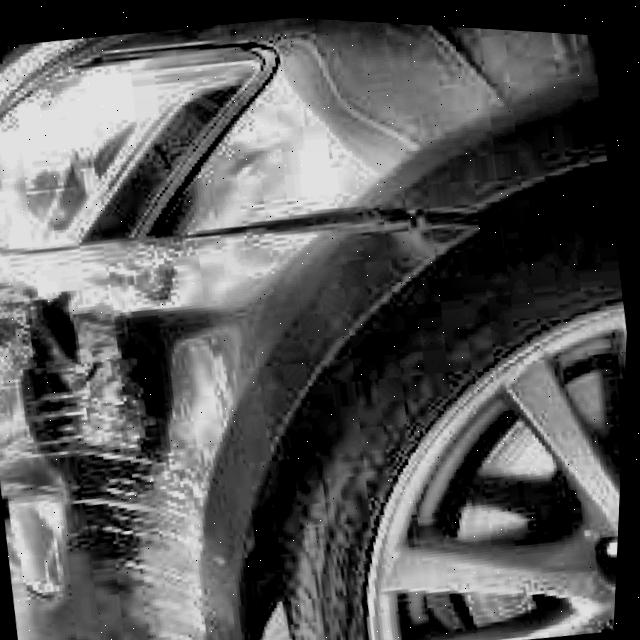bumper_dent: (110, 315, 270, 504), (0, 283, 150, 481), (0, 479, 116, 640)
